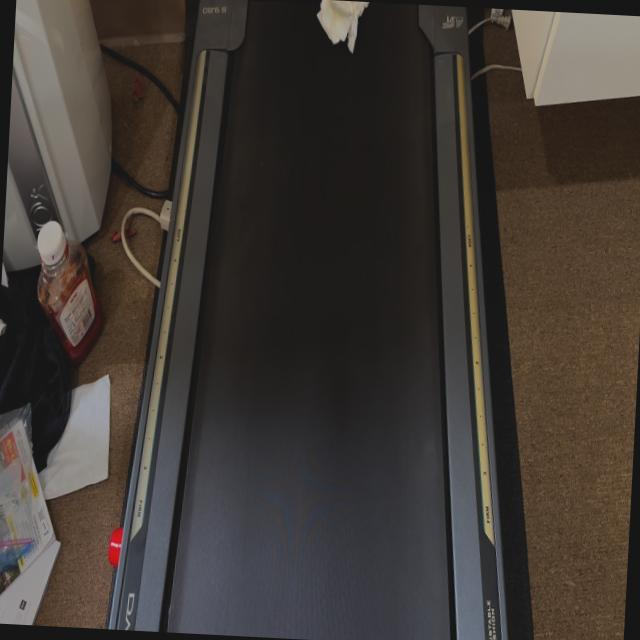Recycle: (315, 0, 367, 60)
